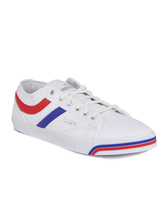shoes: (9, 69, 162, 159)
